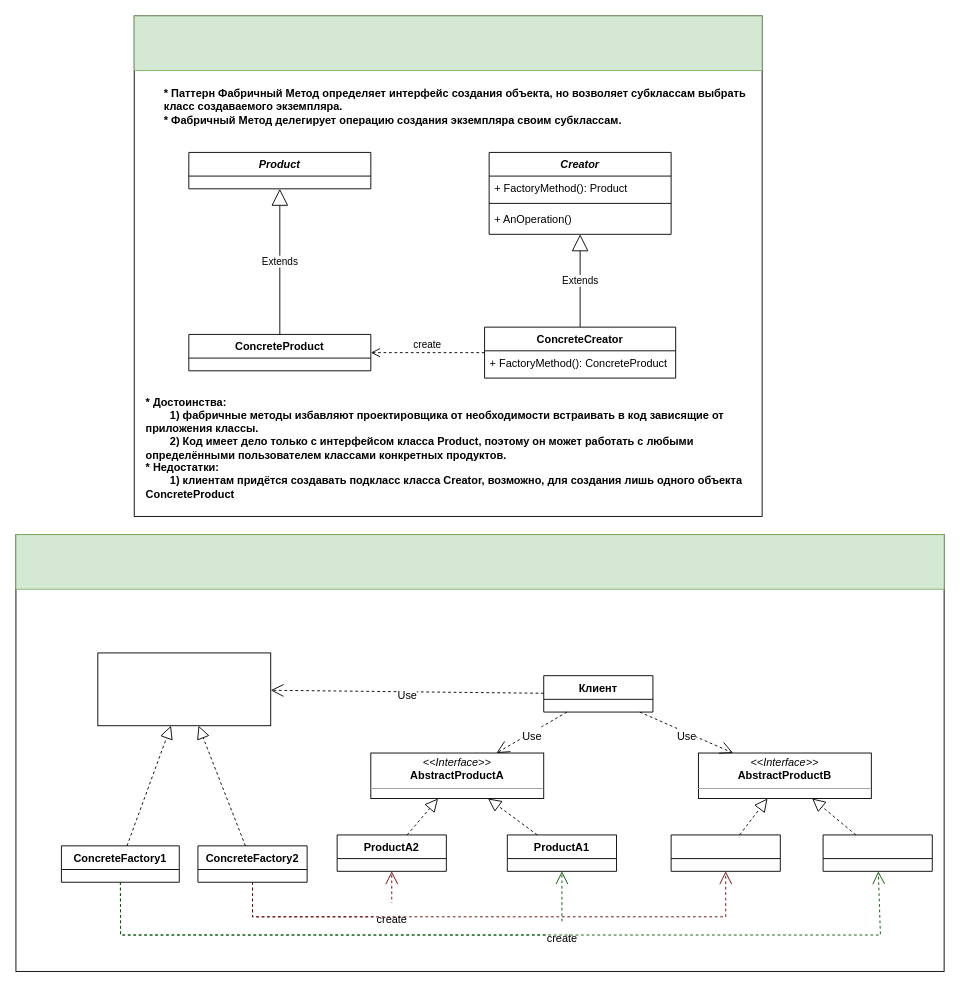
Image size: 960x987. Some labels were removed from this diagram. The shapes that lost their labels are listed below. From the top down, each one's centre as x and y in pixels, then its label:
At pixel 447 43: "Фабричный метод".
At pixel 479 561: "Абстрактная фабрика".
At pixel 184 689: "<<Interface>> AbstractFactory + CreateFactoryA() + CreateFactoryB()".
At pixel 725 852: "ProductB2".
At pixel 877 852: "ProductB1".
